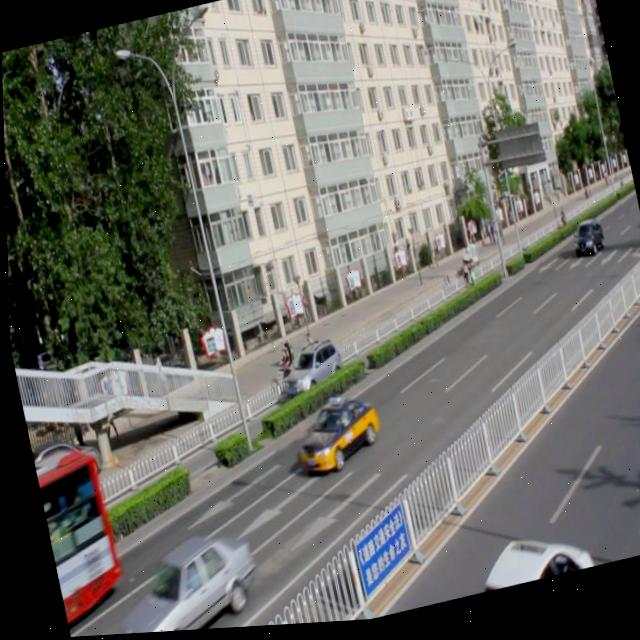car: (98, 525, 261, 636), (462, 526, 589, 600), (284, 391, 381, 480), (274, 337, 344, 401)
van: (29, 438, 127, 637)
